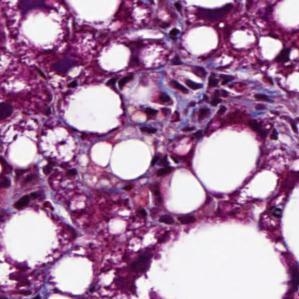inflammation: (114, 63, 237, 128), (246, 88, 299, 147), (0, 162, 61, 211), (129, 176, 178, 227)
